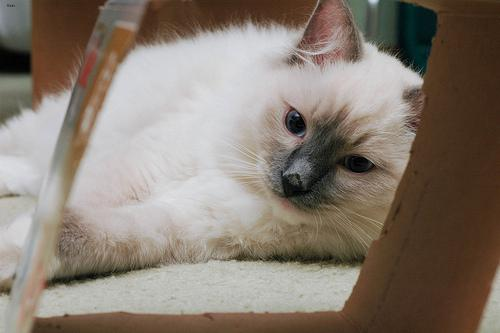cat-Ragdoll: (255, 0, 424, 222)
